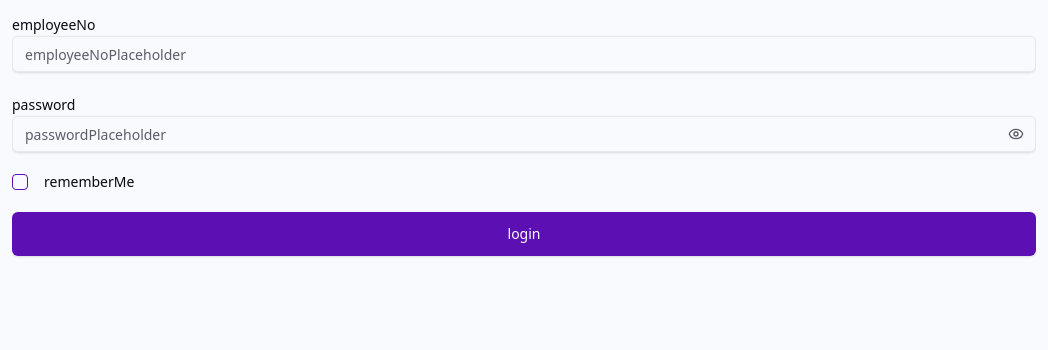
Test: LoginForm › Login flow › should handle login failure with remaining attempts
Type "ADMIN001" into the field labelled "employeeNo" at (524, 54), box [12,36,1036,72]
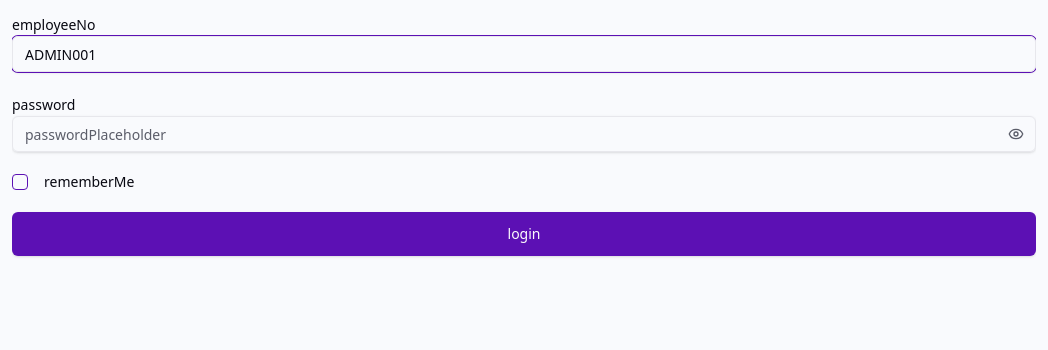
Type "wrongpass" into the password field labelled "password" at (524, 134), box [12,116,1036,152]
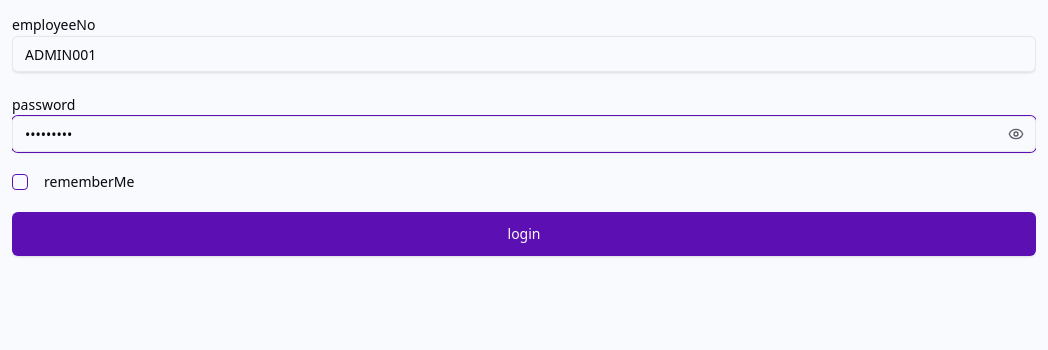
Click the button "login" at (524, 234), box [12,212,1036,256]
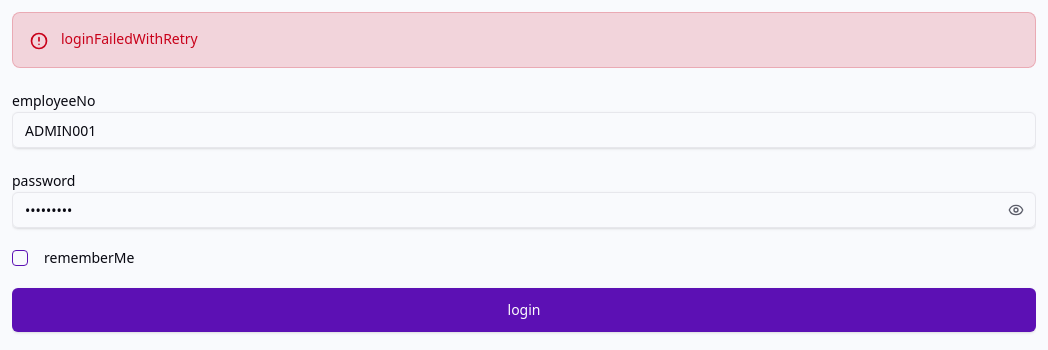
expect the text "loginFailedWithRetry" is shown: met, box [61,29,198,49]
